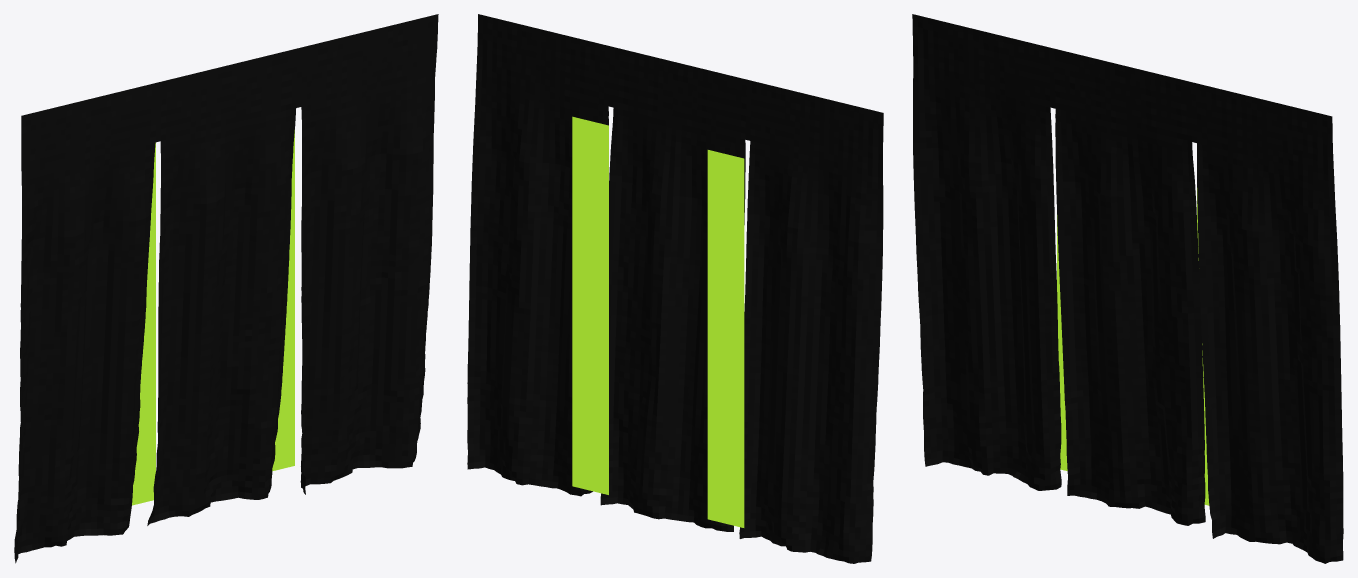
The picture shows the model from 3 angles, left to right: view 1: azimuth 30°, elevation 25°; view 2: azimuth 150°, elevation 25°; view 3: azimuth 330°, elevation 25°; orthographic projection. The views are drawn at different scales.
Parts seen in each view (by area): view 1: noren_exp, glow0, glow1; view 2: noren_exp, glow0, glow1; view 3: noren_exp, glow0.
Boxes of the visible parts, bbox=[...] form: noren_exp: bbox=[14, 14, 438, 563]; glow0: bbox=[132, 142, 155, 505]; glow1: bbox=[272, 130, 294, 471]; noren_exp: bbox=[467, 14, 883, 563]; glow0: bbox=[707, 150, 744, 527]; glow1: bbox=[572, 116, 608, 494]; noren_exp: bbox=[912, 14, 1343, 563]; glow0: bbox=[1057, 215, 1067, 470].
Bounding box in the file's own units: 1.55 × 1.62 × 0.151.
